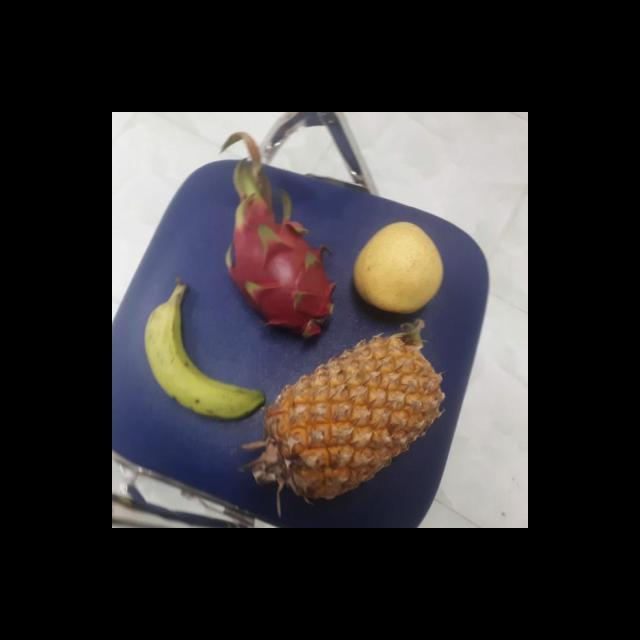banana: (140, 288, 264, 423)
pear: (350, 221, 444, 314)
pineapple: (253, 332, 434, 502)
pitaya: (230, 202, 336, 340)
